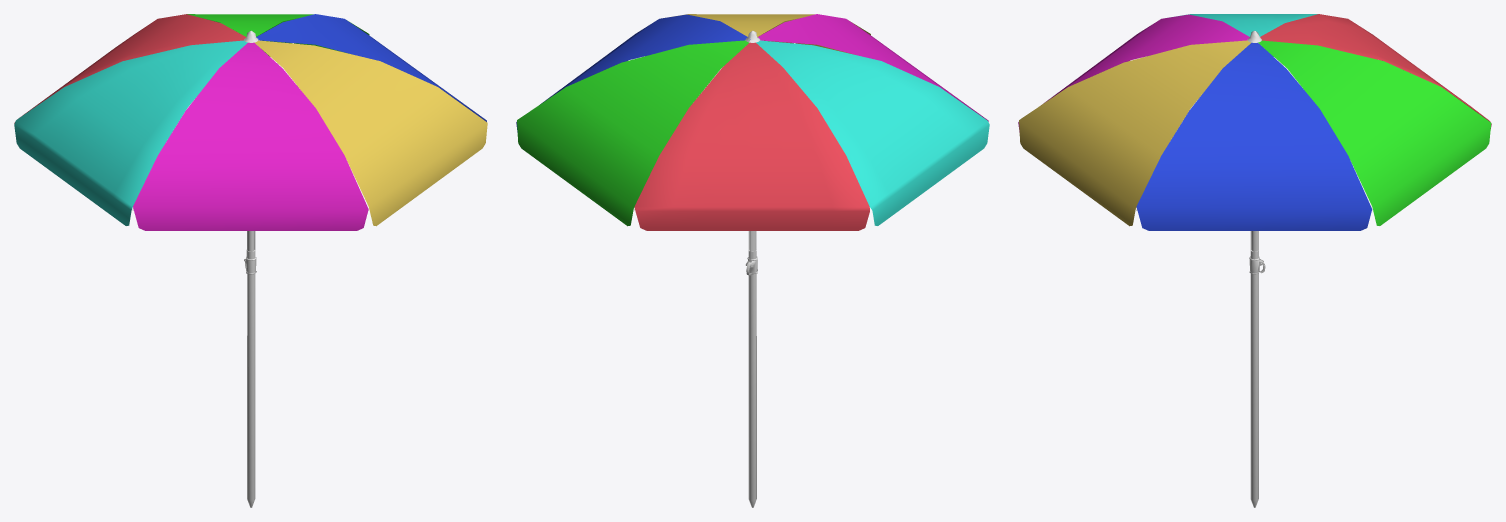
3 views of the same model, side by side, from view 1: azimuth 30°, elevation 25°; view 2: azimuth 150°, elevation 25°; view 3: azimuth 270°, elevation 25° (orthographic).
Parts seen in each view (by area): view 1: Sphere.002, Cylinder; view 2: Sphere.002, Cylinder, Cylinder.001; view 3: Sphere.002, Cylinder, Cylinder.001.
Boxes of the visible parts, <box> form: Sphere.002: <box>14,14,487,230</box>; Cylinder: <box>247,250,255,507</box>; Sphere.002: <box>516,14,989,230</box>; Cylinder: <box>748,250,756,507</box>; Cylinder.001: <box>745,30,759,275</box>; Sphere.002: <box>1018,14,1491,230</box>; Cylinder: <box>1250,250,1258,507</box>; Cylinder.001: <box>1247,30,1265,274</box>.
Bounding box in the file's own units: 254 × 325 × 292.
